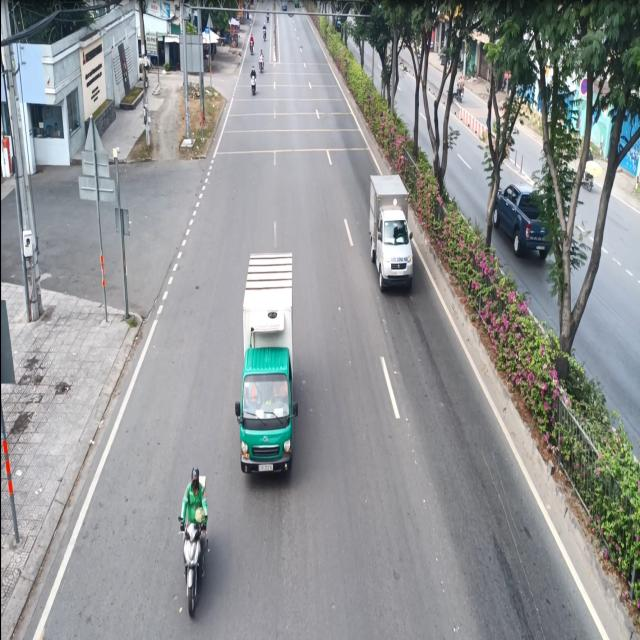motor: (178, 449, 216, 618)
truck: (239, 250, 298, 480), (368, 169, 415, 290)
